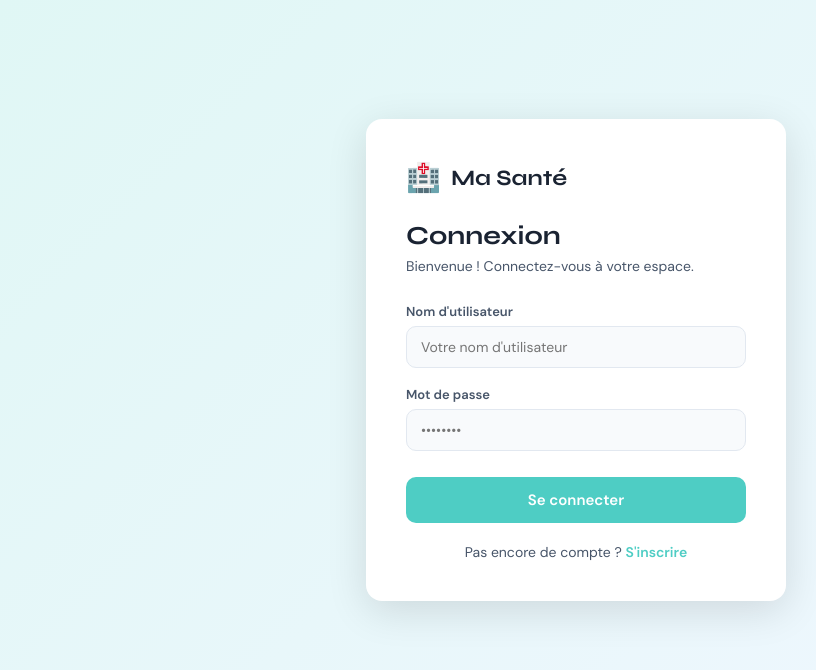
Test: shows error on failed login
Type "wrong" into the field with placeholder "Votre nom d'utilisateur". click: coordinates (576, 347)
box: [406, 326, 746, 368]
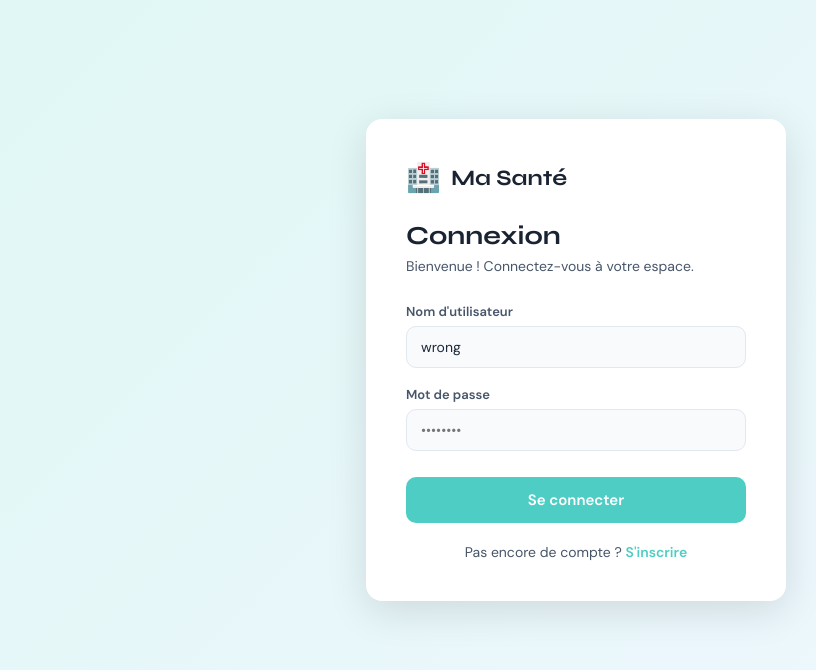
Type "wrong" into the password field with placeholder "••••••••". click: coordinates (576, 430)
box: [406, 409, 746, 451]
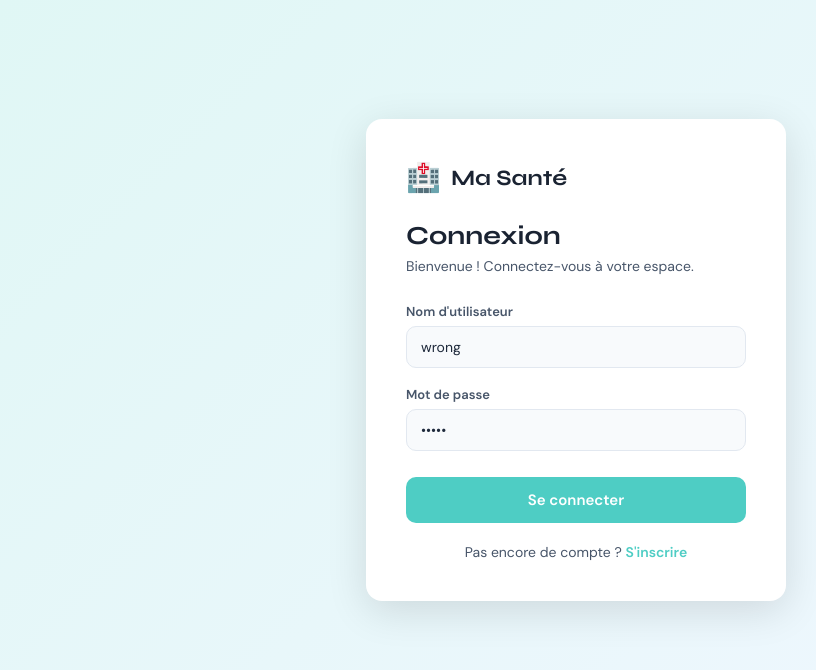
Click the button "Se connecter". click: coordinates (576, 500)
box: [406, 477, 746, 523]
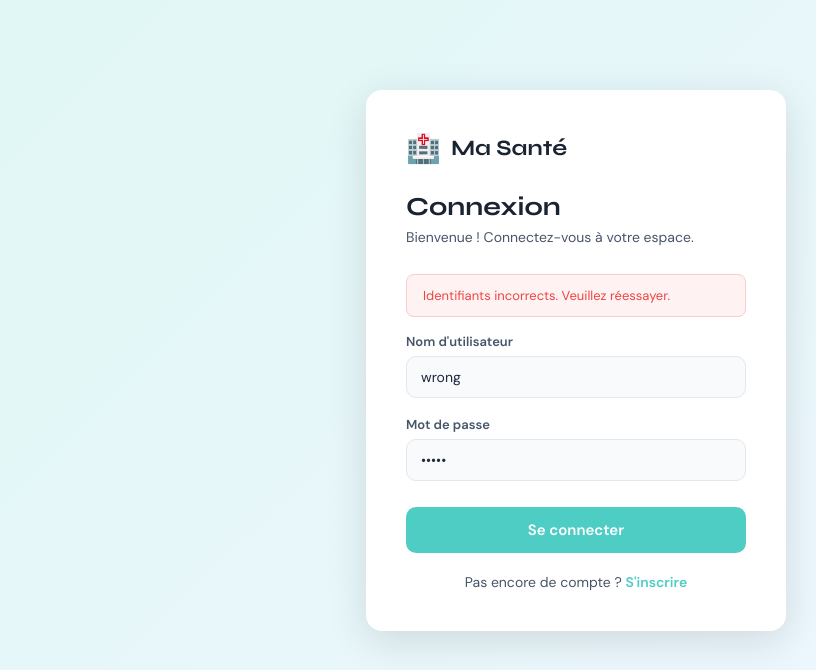
Expected: the text "Identifiants incorrects. Veuillez réessayer." is shown, [406, 274, 746, 316]
